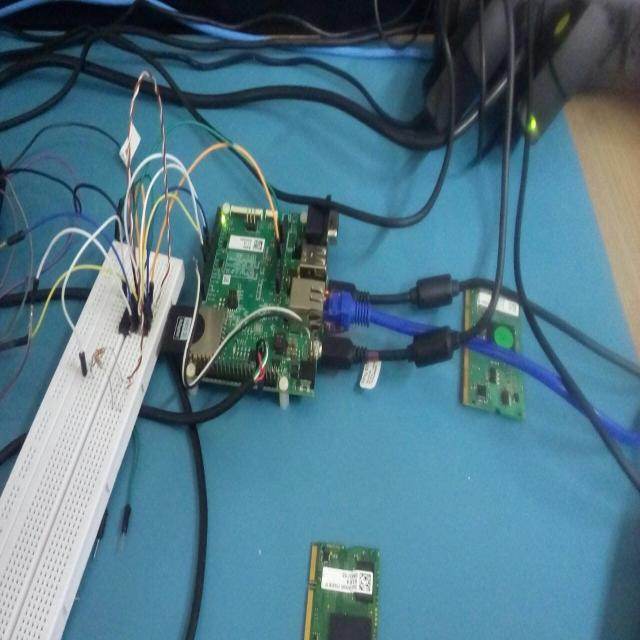som: (464, 280, 530, 422), (304, 535, 381, 640)
